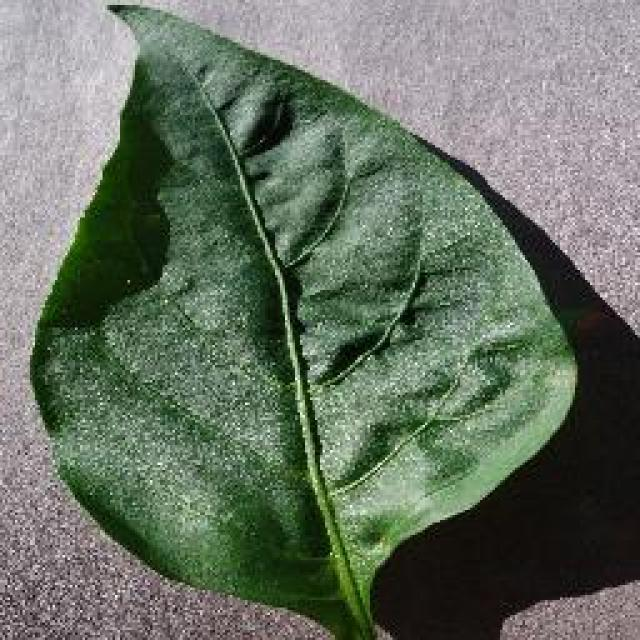Chilli_Healthy: (28, 0, 580, 638)
